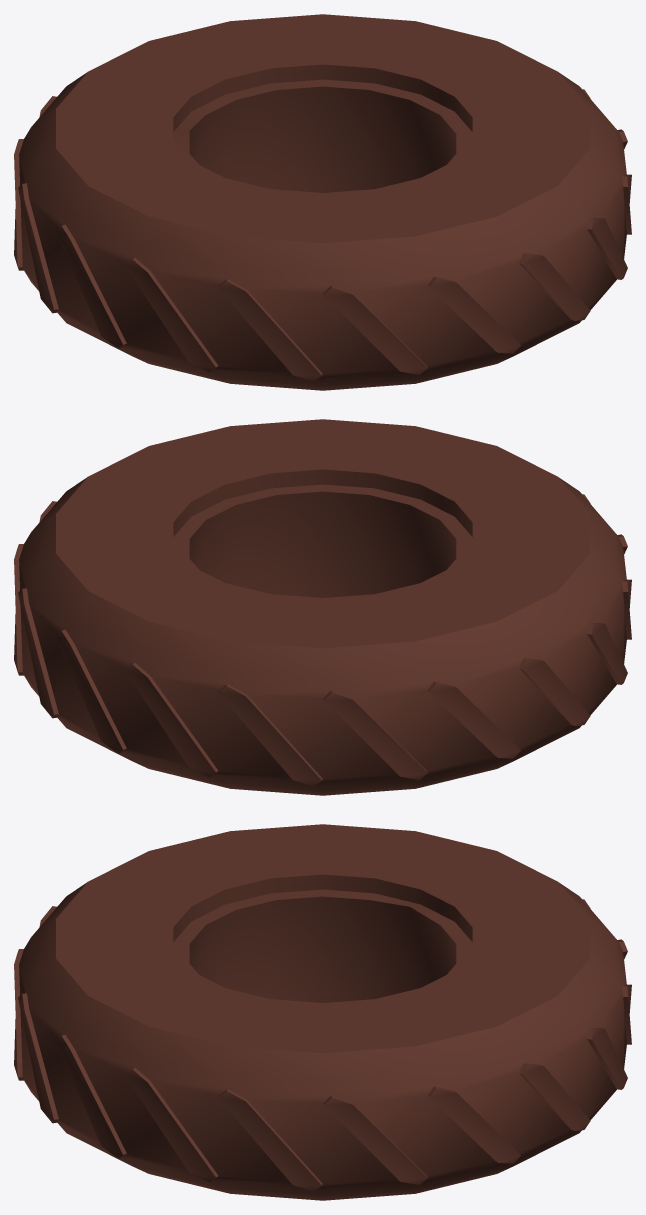
Rendered from PP_Tire_01.fbx.
The picture shows the model from 3 angles, top to bottom: view 1: azimuth 30°, elevation 25°; view 2: azimuth 150°, elevation 25°; view 3: azimuth 270°, elevation 25°; orthographic projection.
Parts seen in each view (by area): view 1: SM_Tire_01; view 2: SM_Tire_01; view 3: SM_Tire_01.
Boxes of the visible parts, x1=… form: SM_Tire_01: x1=14, y1=14, x2=631, y2=390; SM_Tire_01: x1=14, y1=419, x2=631, y2=795; SM_Tire_01: x1=14, y1=824, x2=631, y2=1200.
Bounding box in the file's own units: 0.8216 × 0.8193 × 0.2157.
